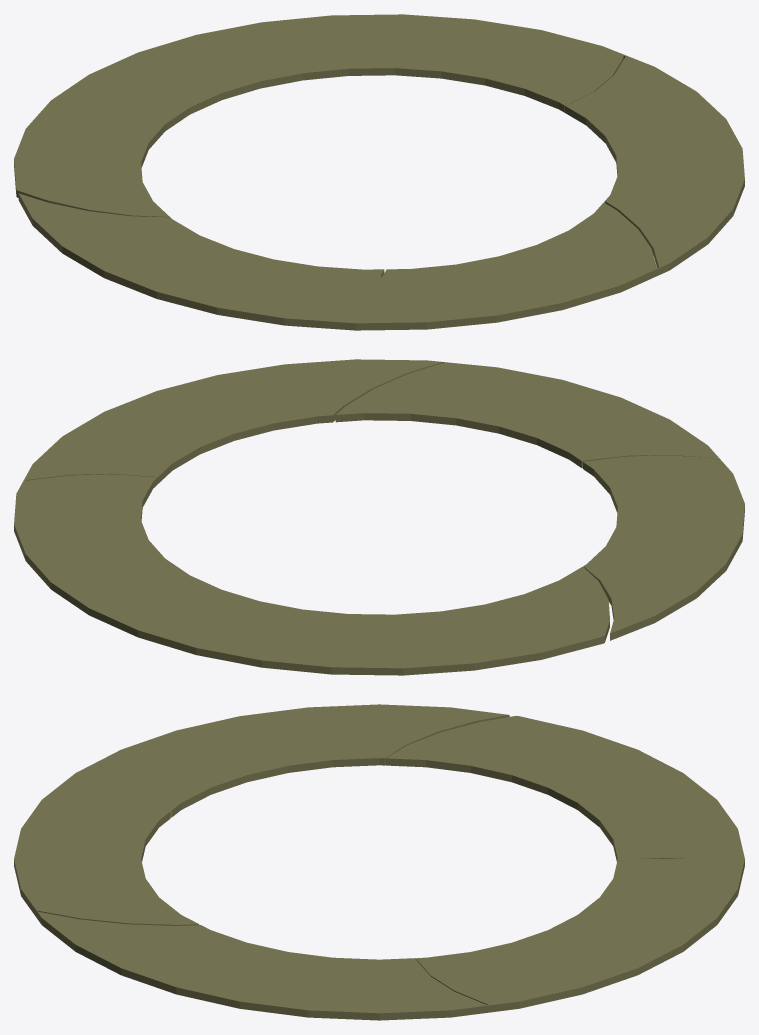
Rendered from RoadCircle.dae.
3 renders of one model, top to bottom at view 1: azimuth 30°, elevation 25°; view 2: azimuth 150°, elevation 25°; view 3: azimuth 270°, elevation 25°, orthographic.
Parts seen in each view (by area): view 1: Cylinder_001_004, Cylinder_001, Cylinder_001_003, Cylinder_001_001, Cylinder_001_002; view 2: Cylinder_001, Cylinder_001_004, Cylinder_001_003, Cylinder_001_001, Cylinder_001_002; view 3: Cylinder_001_003, Cylinder_001, Cylinder_001_004, Cylinder_001_001, Cylinder_001_002.
Part boxes in pixels (x1,y1,x2,y2): Cylinder_001_004: [203, 14, 654, 112]; Cylinder_001: [14, 33, 261, 217]; Cylinder_001_003: [565, 56, 744, 274]; Cylinder_001_001: [18, 193, 384, 328]; Cylinder_001_002: [319, 202, 669, 330]; Cylinder_001: [188, 566, 609, 675]; Cylinder_001_004: [14, 464, 259, 652]; Cylinder_001_003: [25, 359, 441, 484]; Cylinder_001_001: [583, 455, 744, 640]; Cylinder_001_002: [335, 360, 720, 468]; Cylinder_001_003: [37, 911, 489, 1020]; Cylinder_001: [385, 715, 744, 869]; Cylinder_001_004: [416, 859, 743, 1017]; Cylinder_001_001: [96, 704, 509, 817]; Cylinder_001_002: [14, 761, 199, 925].
Bounding box in the file's own units: 23 × 23 × 0.25.
